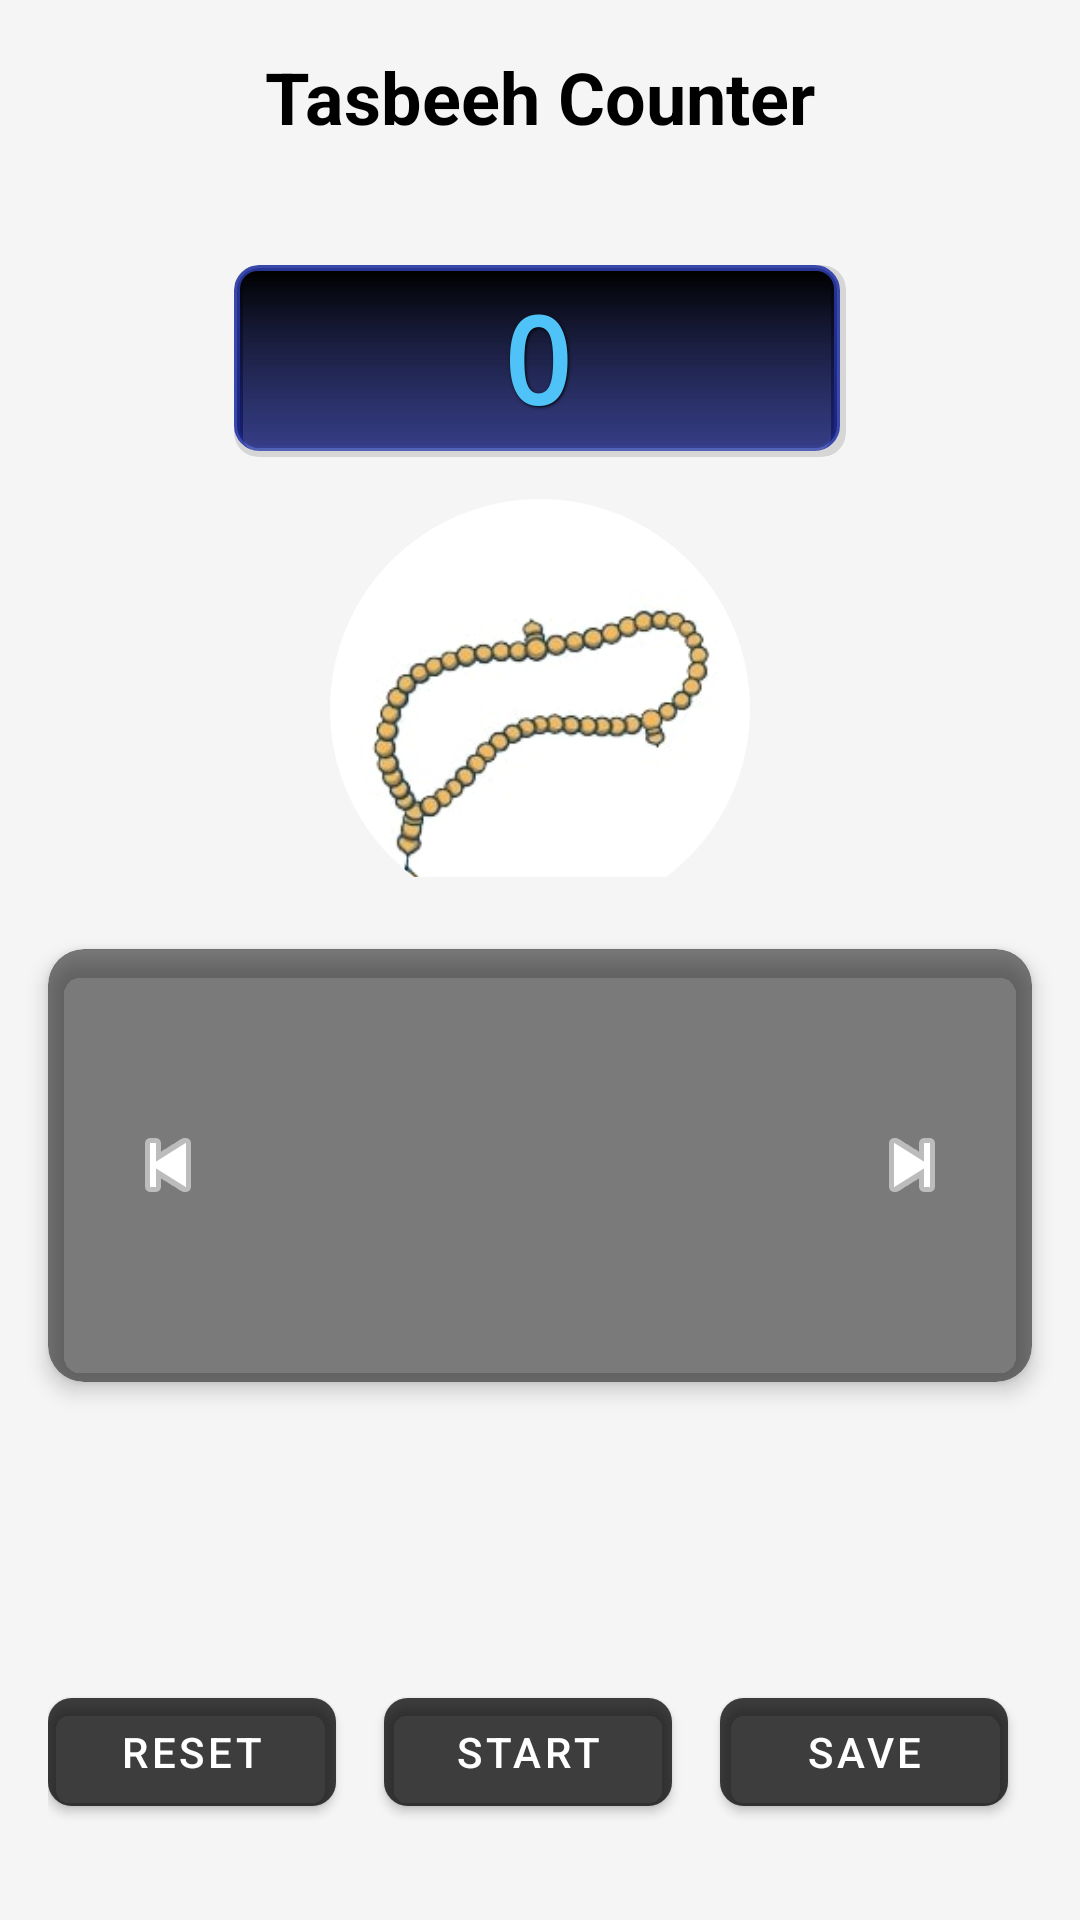

Icon bounding boxes for this 1080×1920 phone screenshot, format (x1, y1, x2, y2):
Next Quote: (889, 1138, 935, 1192)
Previous Quote: (145, 1138, 191, 1192)
